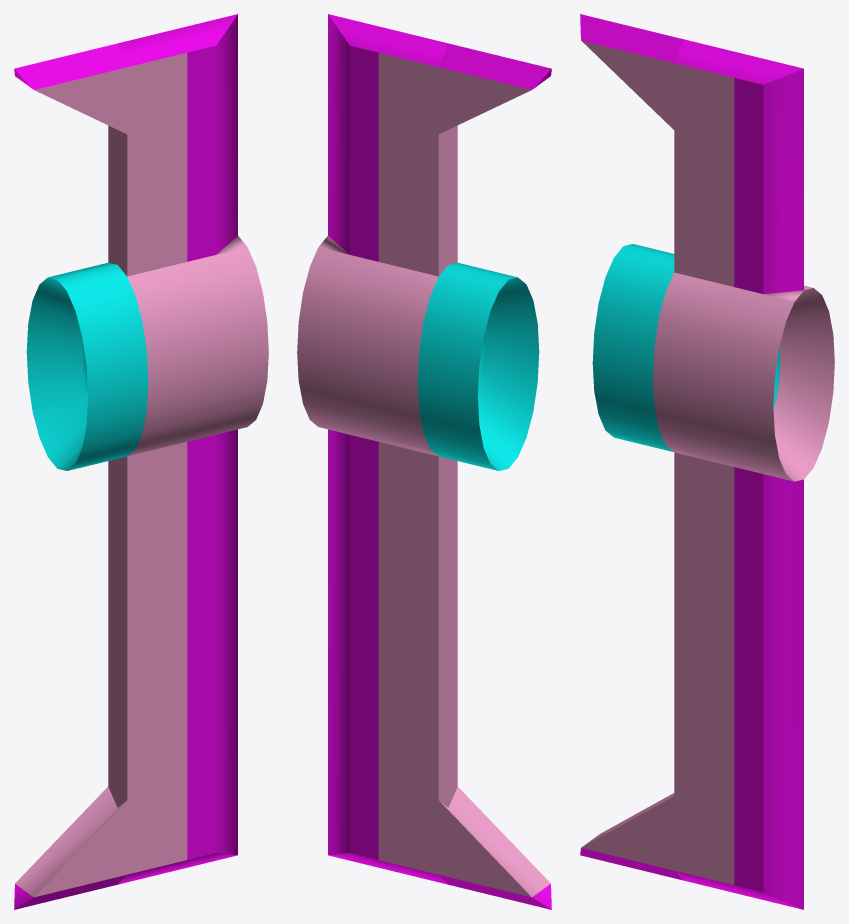
The model's file is battleship_05_incolor_03.fbx.
The picture shows the model from 3 angles, left to right: view 1: azimuth 30°, elevation 25°; view 2: azimuth 150°, elevation 25°; view 3: azimuth 330°, elevation 25°; orthographic projection.
Visible parts, largest first — view 1: pCylinder1; view 2: pCylinder1; view 3: pCylinder1.
Part boxes in pixels (x1,y1,x2,y2): pCylinder1: (14,14,268,909); pCylinder1: (297,14,551,909); pCylinder1: (580,14,834,909).
Bounding box in the file's own units: 2.48 × 8.9 × 1.18.
